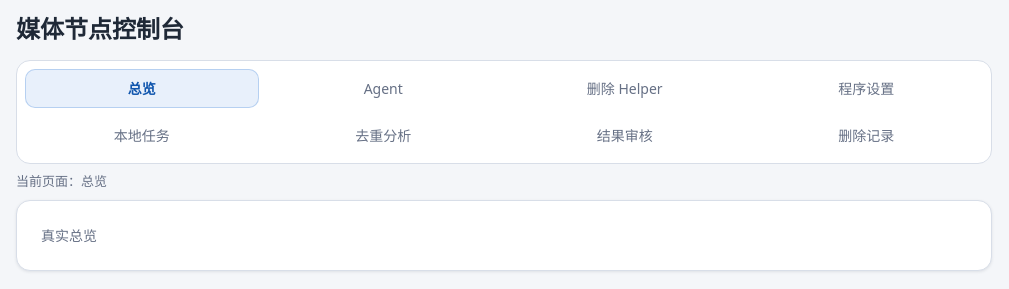
it: AppShell › 可注入四个真实 panel 且不改变固定页签合同
expect the text "真实总览" is shown: met, box [41, 226, 97, 244]
Click the tab "Agent": (383, 88) [266, 69, 500, 108]
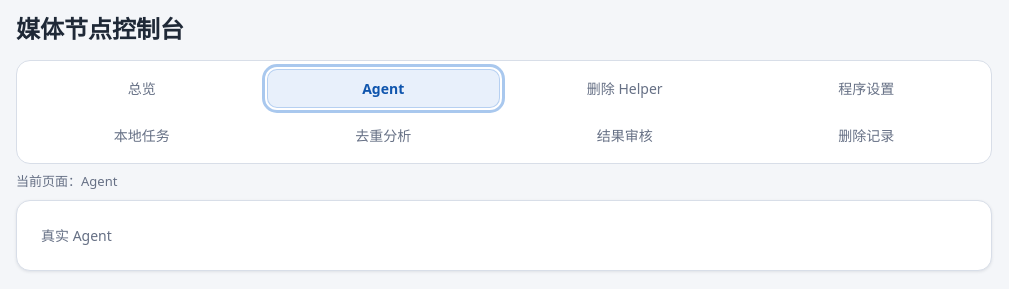
expect the text "真实 Agent" is shown: met, box [41, 226, 112, 244]
